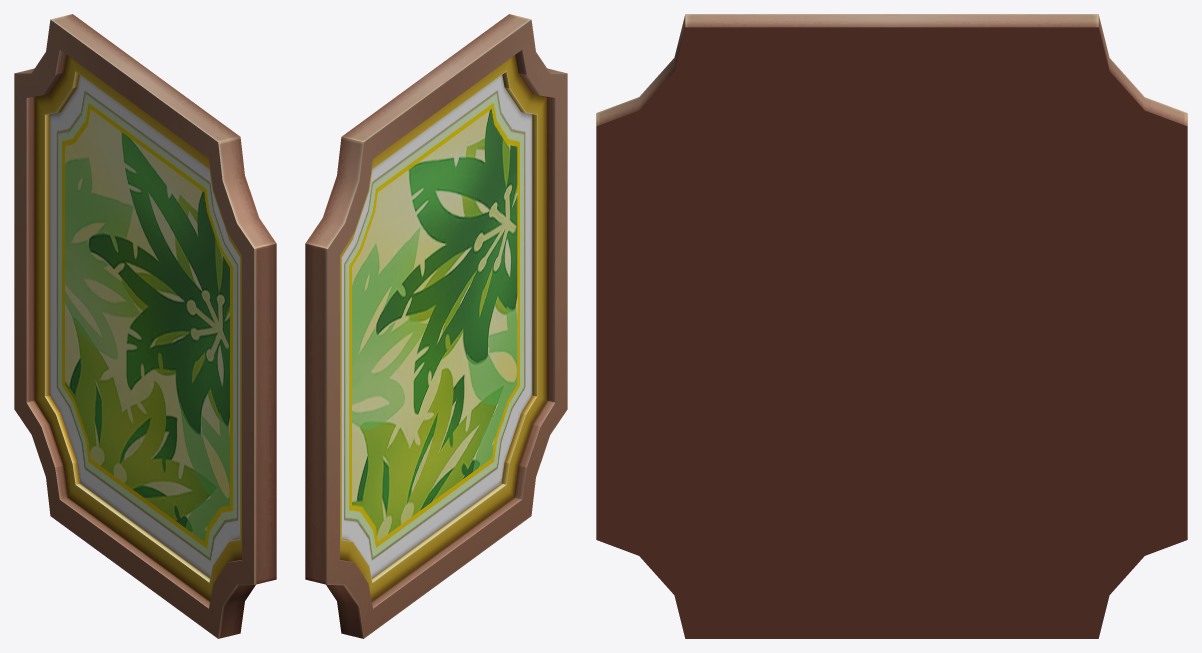
File: my_sunshineresort_01_picture_01.glb
3 renders of one model, left to right at view 1: azimuth 30°, elevation 25°; view 2: azimuth 150°, elevation 25°; view 3: azimuth 270°, elevation 25°, orthographic. The views are drawn at different scales.
Visible parts, largest first — view 1: my_sunshineresort_01_picture_01; view 2: my_sunshineresort_01_picture_01; view 3: my_sunshineresort_01_picture_01.
Part boxes in pixels (x1,y1,x2,y2): my_sunshineresort_01_picture_01: (14, 14, 276, 638); my_sunshineresort_01_picture_01: (305, 14, 567, 638); my_sunshineresort_01_picture_01: (596, 14, 1187, 638).
Size of the model in its own units: 0.000463 by 0.00984 by 0.00862.
1 material, 1 textured.
